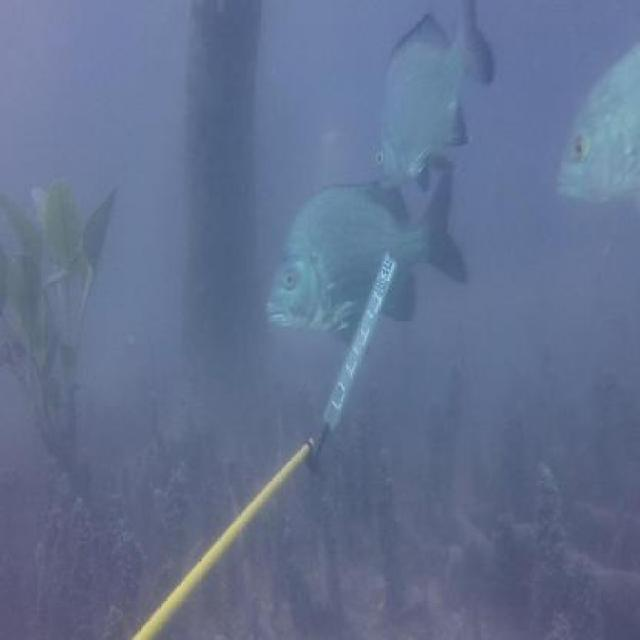Caranx: (552, 45, 640, 217)
acanthopagrus_palmaris: (264, 179, 470, 350), (369, 3, 497, 195)
